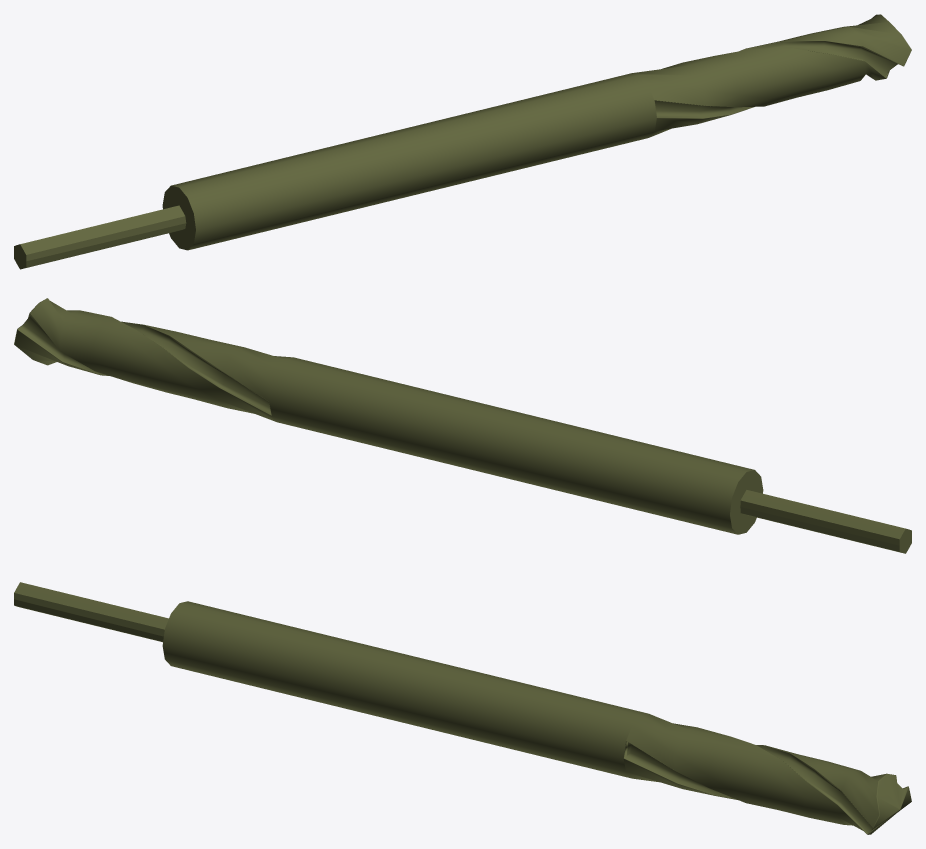
Rendered from Tools_DrillBit_01.fbx.
3 views of the same model, one above another, from view 1: azimuth 30°, elevation 25°; view 2: azimuth 150°, elevation 25°; view 3: azimuth 330°, elevation 25° (orthographic).
Visible parts, largest first — view 1: Tools_DrillBit_01; view 2: Tools_DrillBit_01; view 3: Tools_DrillBit_01.
Part boxes in pixels (box(x1,y1,x2,y2)): Tools_DrillBit_01: box(14, 14, 911, 269); Tools_DrillBit_01: box(14, 298, 911, 553); Tools_DrillBit_01: box(14, 582, 911, 834).
Bounding box in the file's own units: 17.36 × 1.15 × 1.15.
